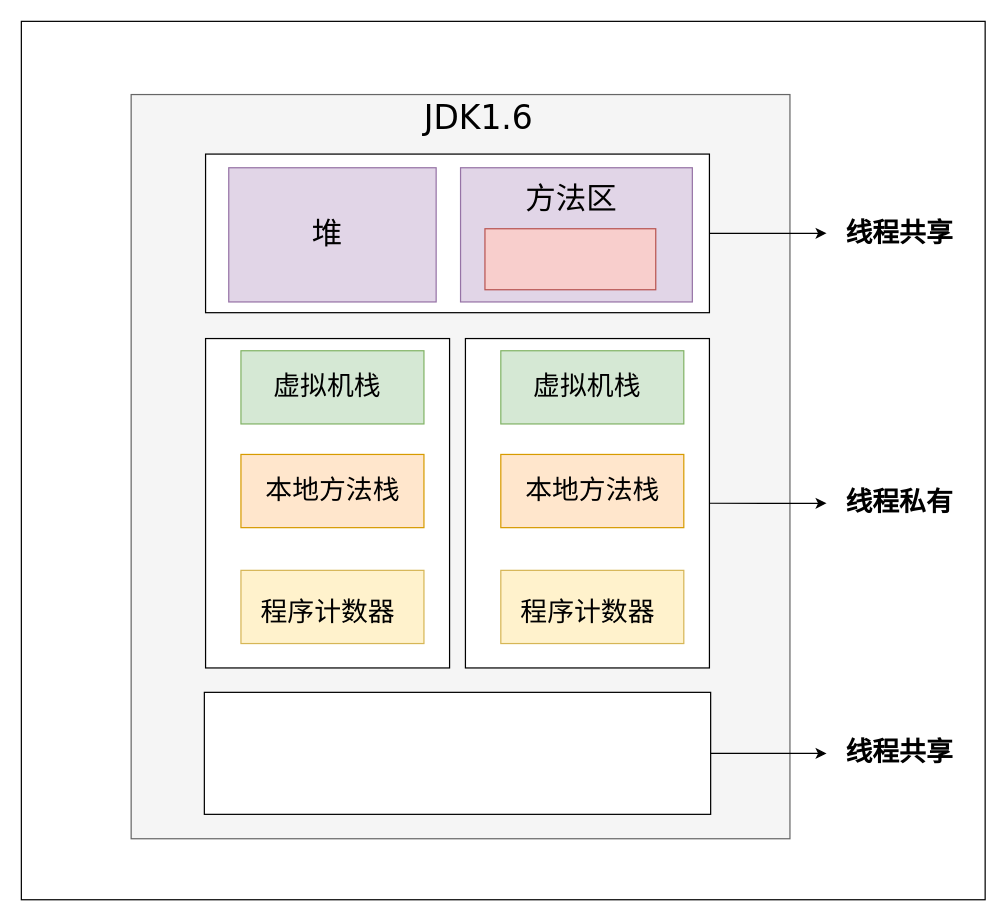
Image size: 1007x921. Some labels were removed from this diagram. Each missing label, with the box of its shape:
直接内存: (203, 691, 711, 814)
运行时常量池 (包括字符串常量池): (484, 228, 656, 290)
